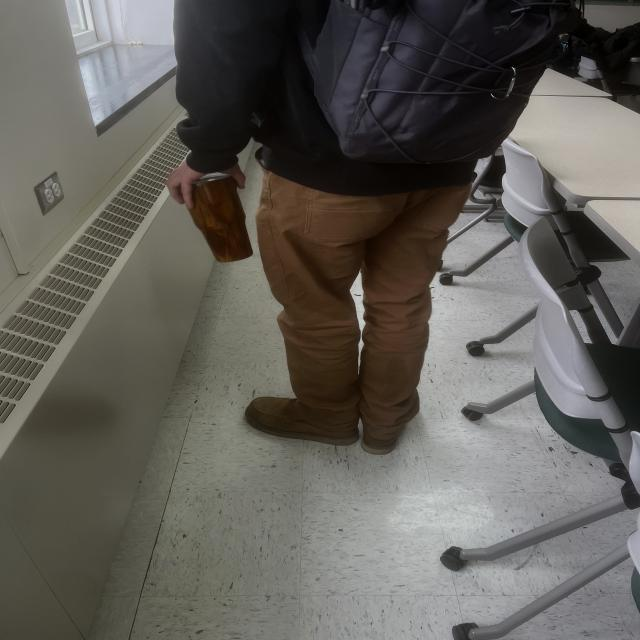Boots: (236, 389, 426, 462)
